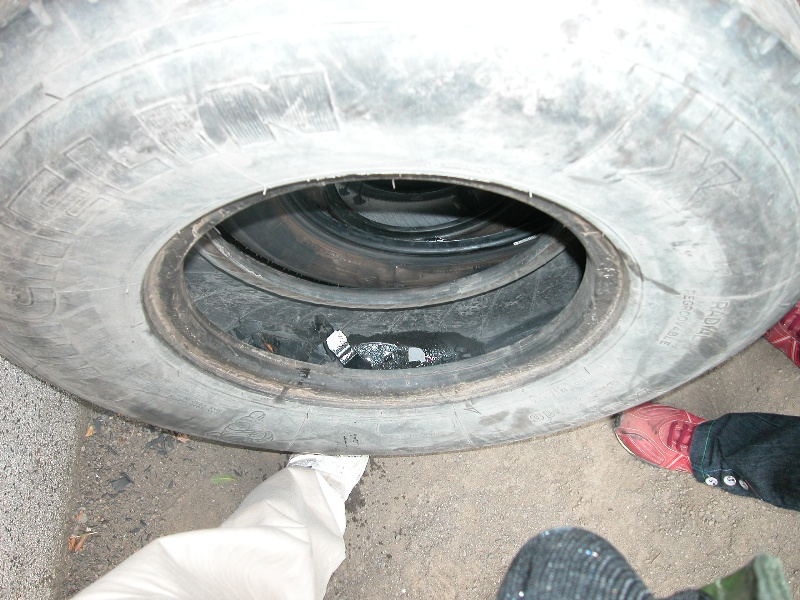tire: (1, 1, 799, 457)
